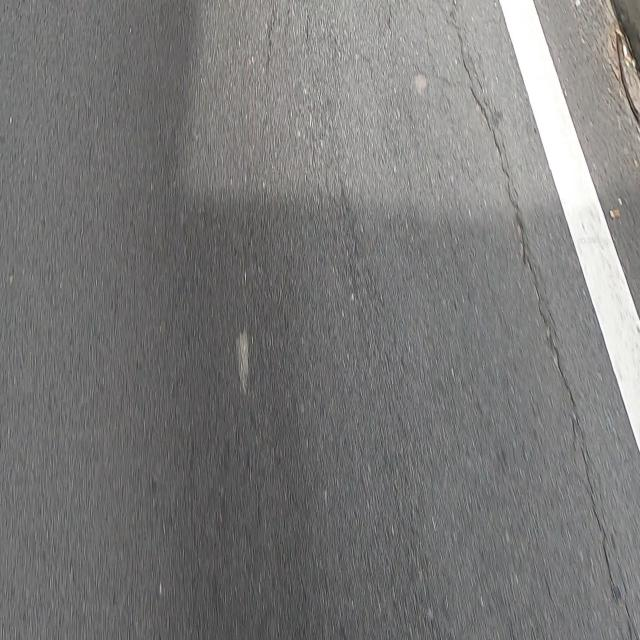Retak-Memanjang: (469, 89, 614, 598)
